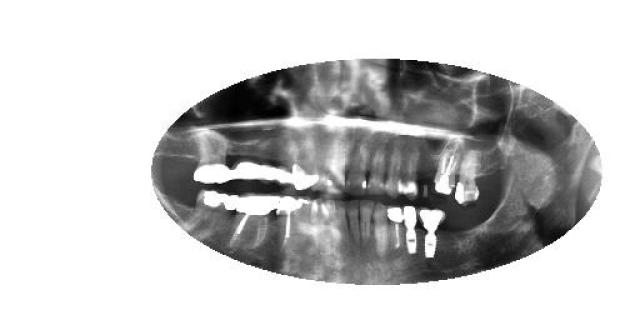Fillings: (190, 190, 235, 239), (192, 141, 230, 185), (455, 148, 480, 208), (292, 159, 318, 190), (231, 156, 261, 179), (295, 198, 313, 226), (277, 159, 295, 186), (260, 155, 276, 184)
Implant: (230, 194, 278, 248), (422, 204, 448, 261), (434, 134, 456, 195), (401, 204, 420, 256), (279, 195, 296, 247), (387, 204, 402, 254)
